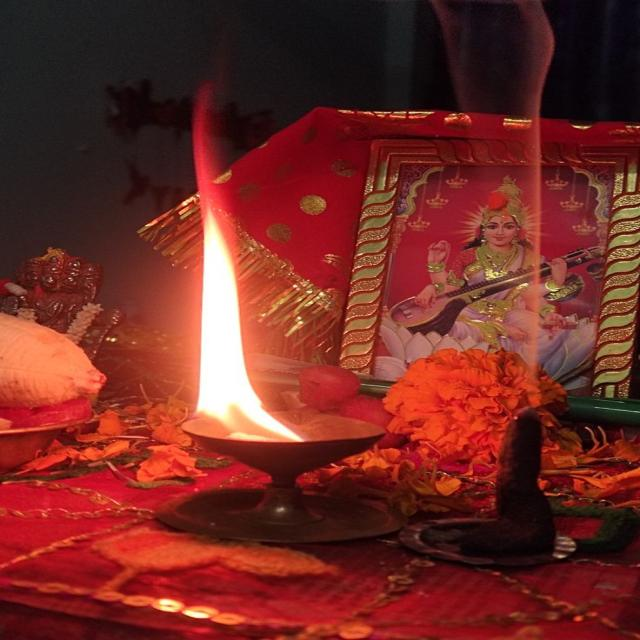fire: (190, 86, 303, 442)
